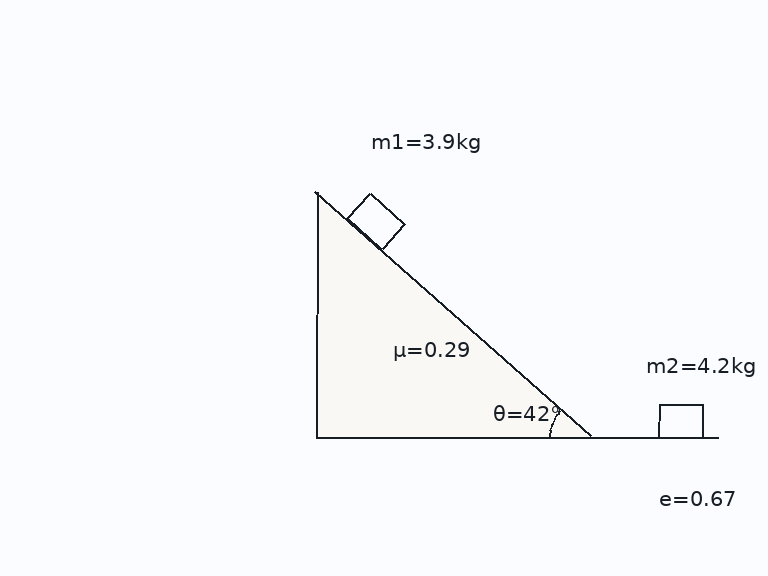block: (345, 191, 406, 251), (657, 403, 705, 439)
ramp: (315, 189, 592, 439)
